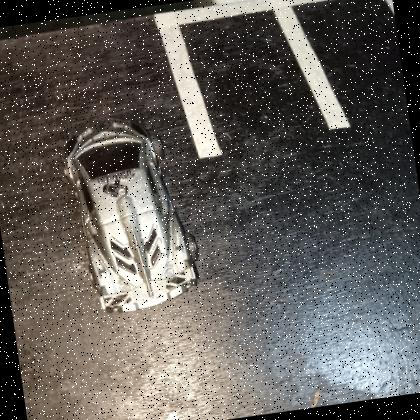Car: (65, 122, 198, 315)
